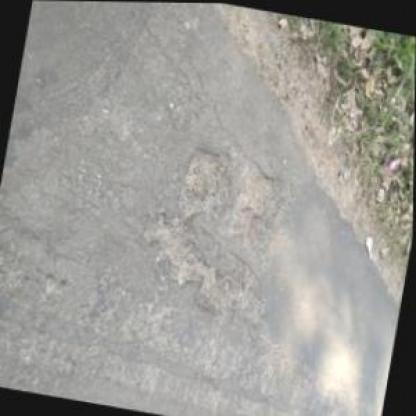pothole: (129, 128, 295, 328)
